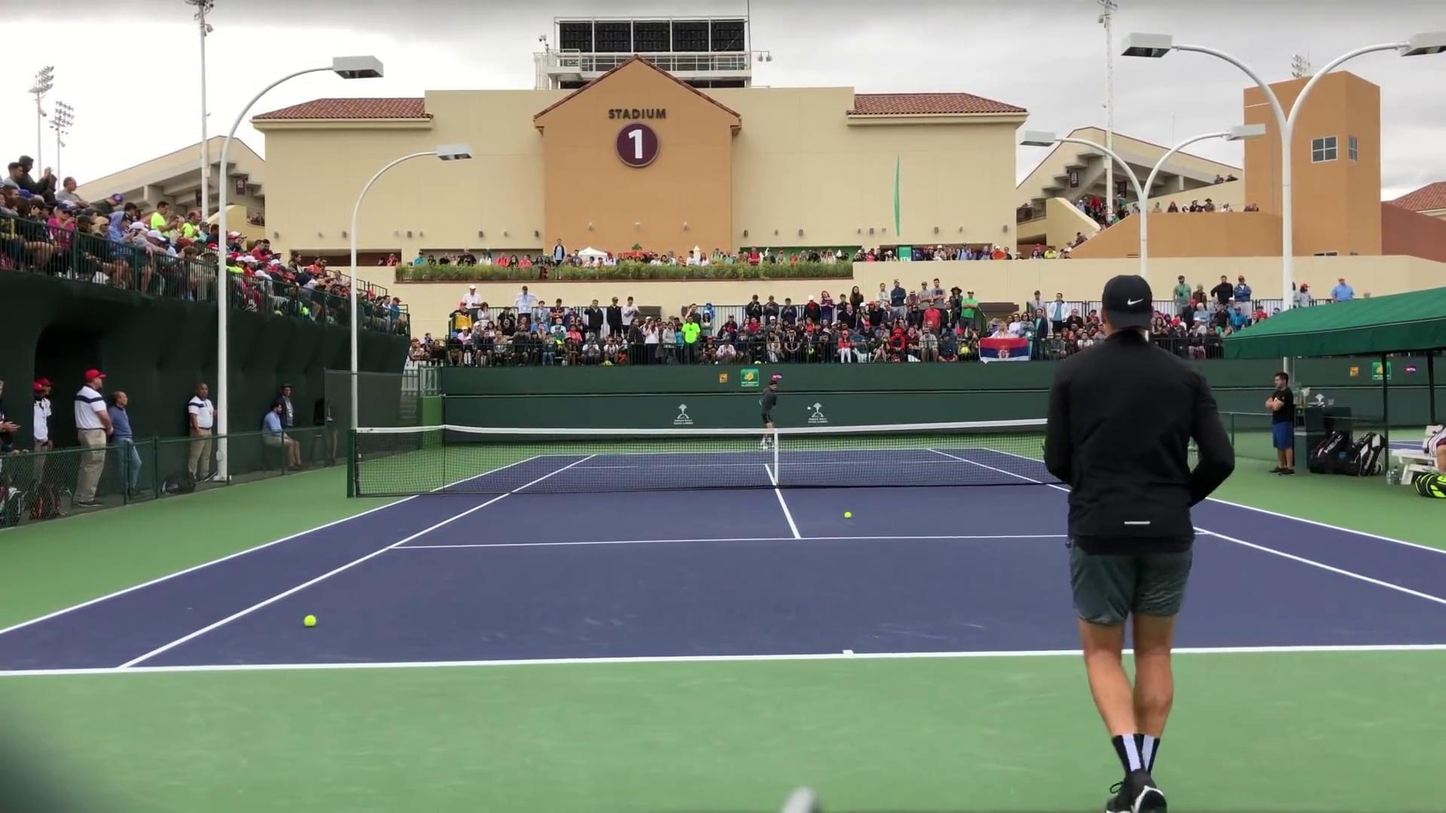ball: (303, 614, 316, 626), (803, 404, 816, 412), (843, 511, 853, 520)
